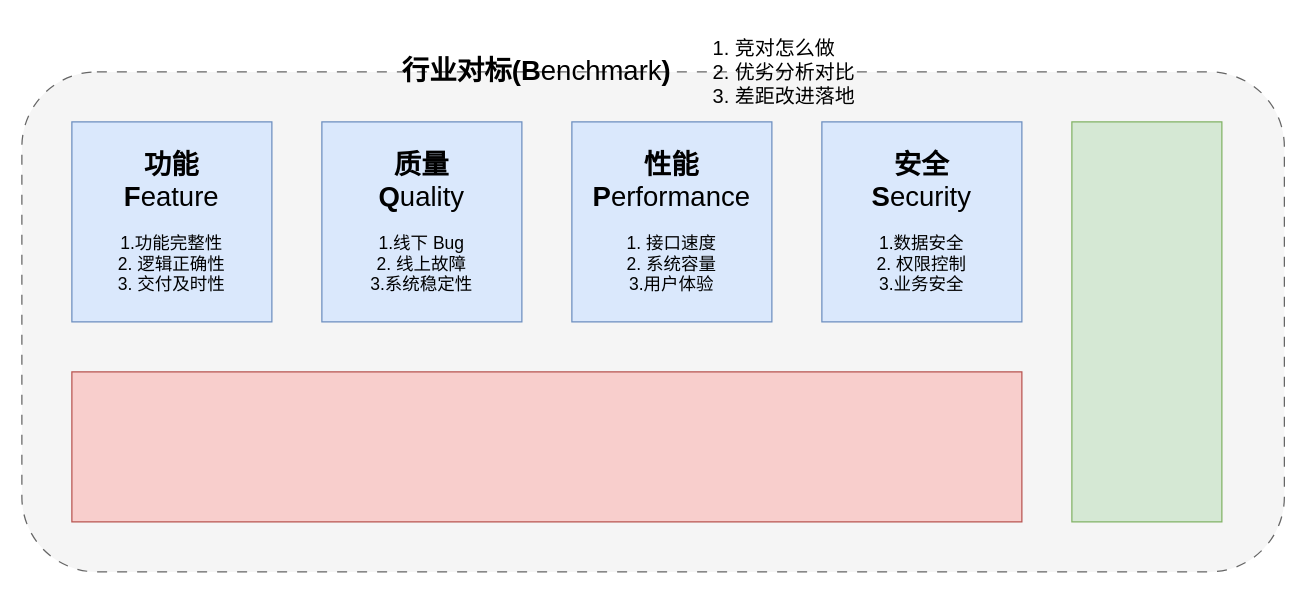
The diagram is 1306 pixels wide and 594 high, and some of its shapes have lost their labels. Here are the shapes that lost their labels. From the top down, the centre of each, then its label:
At point (1146, 321): "效率 E fficiency 1.人力成本 2. 服务器成本 3.迭代效率".
At point (546, 446): "架构 A rchitecture 1.简单易懂 2. 可扩展易演进 3.可观测易维护".
